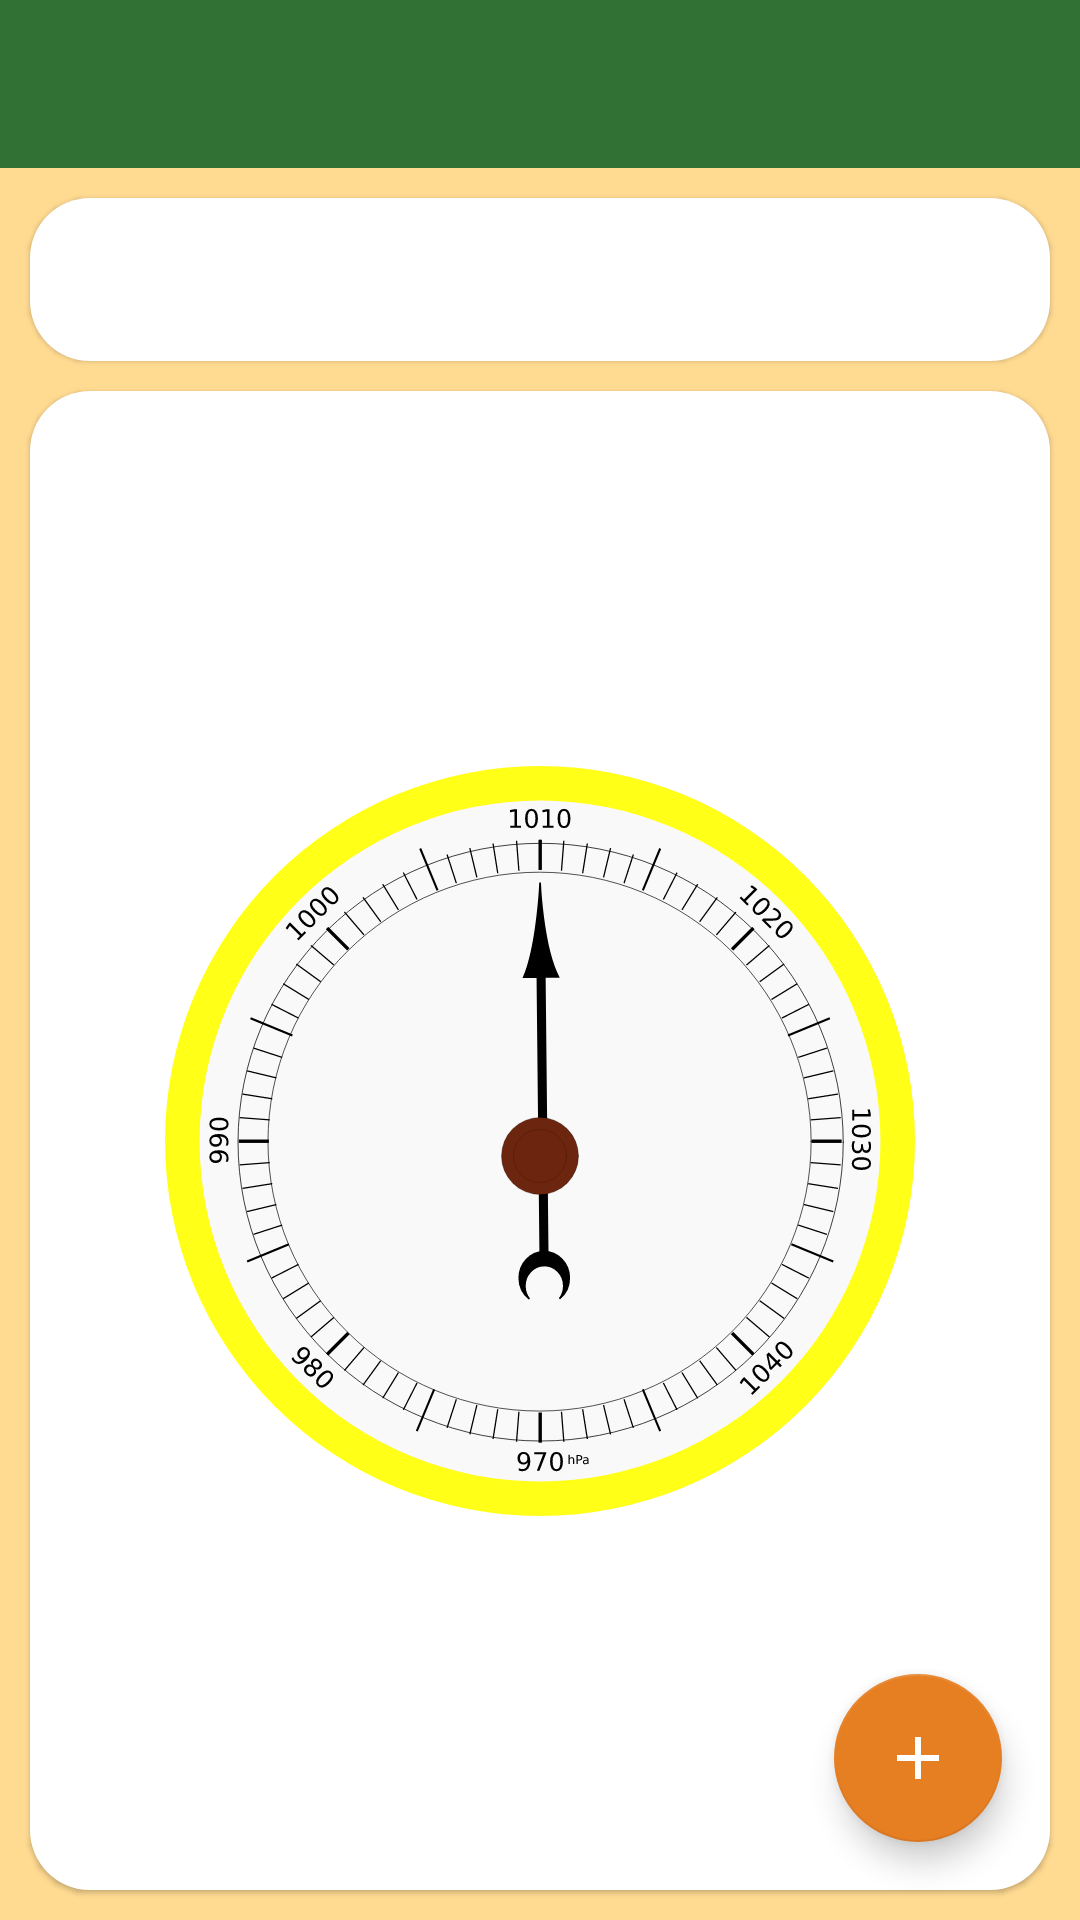

Point at icon controls on the screen. Image size 1080px×1920px, points as [x,y].
add: [918,1758]
